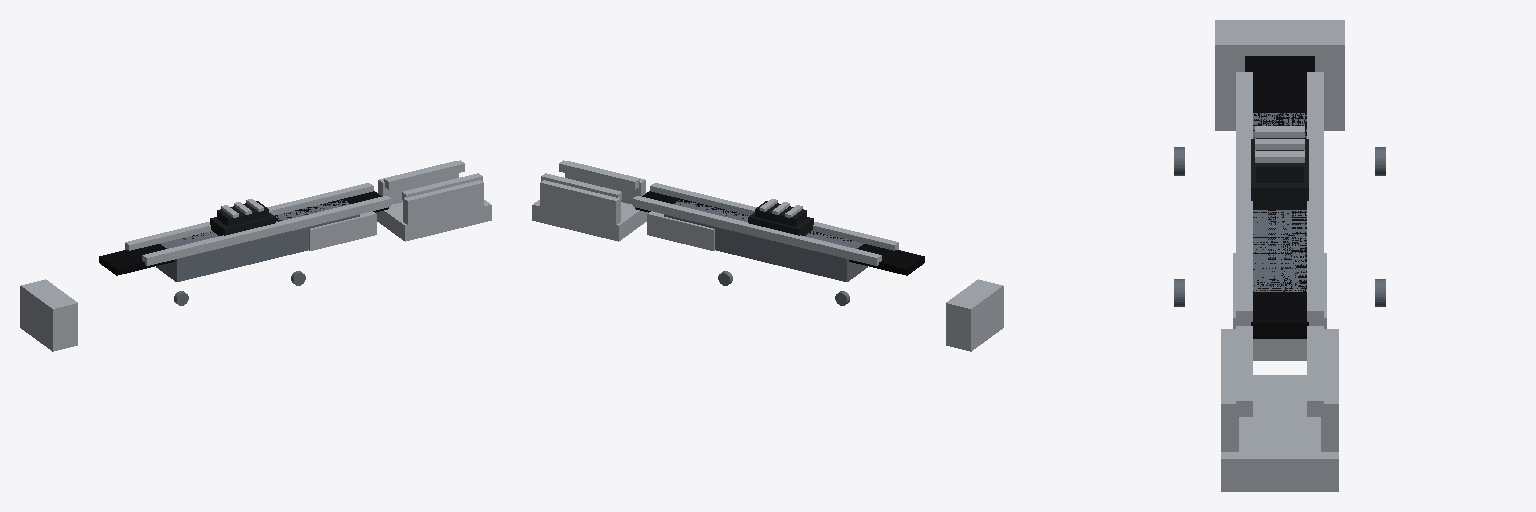
The robot description file, URDF, robot "retractable_utility_knife":
<robot name="retractable_utility_knife">
  <material name="body_yellow">
    <color rgba="0.9 0.75 0.16 1" />
    </material>
  <material name="grip_black">
    <color rgba="0.09 0.09 0.1 1" />
    </material>
  <material name="slider_black">
    <color rgba="0.14 0.15 0.16 1" />
    </material>
  <material name="steel">
    <color rgba="0.69 0.71 0.74 1" />
    </material>
  <material name="dark_steel">
    <color rgba="0.44 0.47 0.51 1" />
    </material>
  <material name="blade_steel">
    <color rgba="0.84 0.86 0.88 1" />
    </material>
  <link name="handle">
    <inertial>
      <mass value="0.24" />
      <inertia ixx="4.24e-05" ixy="0" ixz="0" iyy="0.0006052" iyz="0" izz="0.00062056" />
      </inertial>
    <visual>
      <geometry>
        <mesh filename="meshes/utility_knife_handle_shell.obj" />
        </geometry>
      <material name="body_yellow">
        <color rgba="0.9 0.75 0.16 1" />
        </material>
      </visual>
    <visual name="rear_cap">
      <origin xyz="-0.082 0 -0.0015" rpy="0 0 0" />
      <geometry>
        <box size="0.01 0.022 0.016" />
        </geometry>
      <material name="steel">
        <color rgba="0.69 0.71 0.74 1" />
        </material>
      </visual>
    <visual name="track_insert">
      <origin xyz="0 0 0.0115" rpy="0 0 0" />
      <geometry>
        <box size="0.097 0.01 0.003" />
        </geometry>
      <material name="grip_black">
        <color rgba="0.09 0.09 0.1 1" />
        </material>
      </visual>
    <visual name="left_track_rail">
      <origin xyz="0 0.006 0.0136" rpy="0 0 0" />
      <geometry>
        <box size="0.096 0.003 0.003" />
        </geometry>
      <material name="steel">
        <color rgba="0.69 0.71 0.74 1" />
        </material>
      </visual>
    <visual name="right_track_rail">
      <origin xyz="0 -0.006 0.0136" rpy="0 0 0" />
      <geometry>
        <box size="0.096 0.003 0.003" />
        </geometry>
      <material name="steel">
        <color rgba="0.69 0.71 0.74 1" />
        </material>
      </visual>
    <visual name="nose_shoe">
      <origin xyz="0.069 0 0.002" rpy="0 0 0" />
      <geometry>
        <box size="0.034 0.02 0.006" />
        </geometry>
      <material name="steel">
        <color rgba="0.69 0.71 0.74 1" />
        </material>
      </visual>
    <visual name="nose_left_cheek">
      <origin xyz="0.068 0.0085 0.008" rpy="0 0 0" />
      <geometry>
        <box size="0.03 0.003 0.012" />
        </geometry>
      <material name="steel">
        <color rgba="0.69 0.71 0.74 1" />
        </material>
      </visual>
    <visual name="nose_right_cheek">
      <origin xyz="0.068 -0.0085 0.008" rpy="0 0 0" />
      <geometry>
        <box size="0.03 0.003 0.012" />
        </geometry>
      <material name="steel">
        <color rgba="0.69 0.71 0.74 1" />
        </material>
      </visual>
    <visual name="nose_left_top_guide">
      <origin xyz="0.069 0.006 0.0136" rpy="0 0 0" />
      <geometry>
        <box size="0.03 0.003 0.003" />
        </geometry>
      <material name="steel">
        <color rgba="0.69 0.71 0.74 1" />
        </material>
      </visual>
    <visual name="nose_right_top_guide">
      <origin xyz="0.069 -0.006 0.0136" rpy="0 0 0" />
      <geometry>
        <box size="0.03 0.003 0.003" />
        </geometry>
      <material name="steel">
        <color rgba="0.69 0.71 0.74 1" />
        </material>
      </visual>
    <visual name="left_grip_panel">
      <origin xyz="0 0.0167 0" rpy="0 0 0" />
      <geometry>
        <mesh filename="meshes/utility_knife_side_grip.obj" />
        </geometry>
      <material name="grip_black">
        <color rgba="0.09 0.09 0.1 1" />
        </material>
      </visual>
    <visual name="right_grip_panel">
      <origin xyz="0 -0.0167 0" rpy="0 0 0" />
      <geometry>
        <mesh filename="meshes/utility_knife_side_grip.obj" />
        </geometry>
      <material name="grip_black">
        <color rgba="0.09 0.09 0.1 1" />
        </material>
      </visual>
    <visual name="rear_spine_pad">
      <origin xyz="-0.043 0 0.0117" rpy="0 0 0" />
      <geometry>
        <box size="0.032 0.012 0.0025" />
        </geometry>
      <material name="grip_black">
        <color rgba="0.09 0.09 0.1 1" />
        </material>
      </visual>
    <visual name="left_fastener_-0.040">
      <origin xyz="-0.04 0.0171 0.002" rpy="1.5708 0 0" />
      <geometry>
        <cylinder radius="0.0024" length="0.0018" />
        </geometry>
      <material name="dark_steel">
        <color rgba="0.44 0.47 0.51 1" />
        </material>
      </visual>
    <visual name="right_fastener_-0.040">
      <origin xyz="-0.04 -0.0171 0.002" rpy="1.5708 0 0" />
      <geometry>
        <cylinder radius="0.0024" length="0.0018" />
        </geometry>
      <material name="dark_steel">
        <color rgba="0.44 0.47 0.51 1" />
        </material>
      </visual>
    <visual name="left_fastener_0.006">
      <origin xyz="0.006 0.0171 -0.0012" rpy="1.5708 0 0" />
      <geometry>
        <cylinder radius="0.0024" length="0.0018" />
        </geometry>
      <material name="dark_steel">
        <color rgba="0.44 0.47 0.51 1" />
        </material>
      </visual>
    <visual name="right_fastener_0.006">
      <origin xyz="0.006 -0.0171 -0.0012" rpy="1.5708 0 0" />
      <geometry>
        <cylinder radius="0.0024" length="0.0018" />
        </geometry>
      <material name="dark_steel">
        <color rgba="0.44 0.47 0.51 1" />
        </material>
      </visual>
    <collision name="handle__visual_1__hull_001">
      <geometry>
        <mesh filename="meshes/collision/cache/95cb76e7781f9f93812b9bc6__hull_001.obj" />
        </geometry>
      </collision>
    <collision name="handle__rear_cap">
      <origin xyz="-0.082 0 -0.0015" rpy="0 0 0" />
      <geometry>
        <box size="0.01 0.022 0.016" />
        </geometry>
      </collision>
    <collision name="handle__track_insert">
      <origin xyz="0 0 0.0115" rpy="0 0 0" />
      <geometry>
        <box size="0.097 0.01 0.003" />
        </geometry>
      </collision>
    <collision name="handle__left_track_rail">
      <origin xyz="0 0.006 0.0136" rpy="0 0 0" />
      <geometry>
        <box size="0.096 0.003 0.003" />
        </geometry>
      </collision>
    <collision name="handle__right_track_rail">
      <origin xyz="0 -0.006 0.0136" rpy="0 0 0" />
      <geometry>
        <box size="0.096 0.003 0.003" />
        </geometry>
      </collision>
    <collision name="handle__nose_shoe">
      <origin xyz="0.069 0 0.002" rpy="0 0 0" />
      <geometry>
        <box size="0.034 0.02 0.006" />
        </geometry>
      </collision>
    <collision name="handle__nose_left_cheek">
      <origin xyz="0.068 0.0085 0.008" rpy="0 0 0" />
      <geometry>
        <box size="0.03 0.003 0.012" />
        </geometry>
      </collision>
    <collision name="handle__nose_right_cheek">
      <origin xyz="0.068 -0.0085 0.008" rpy="0 0 0" />
      <geometry>
        <box size="0.03 0.003 0.012" />
        </geometry>
      </collision>
    <collision name="handle__nose_left_top_guide">
      <origin xyz="0.069 0.006 0.0136" rpy="0 0 0" />
      <geometry>
        <box size="0.03 0.003 0.003" />
        </geometry>
      </collision>
    <collision name="handle__nose_right_top_guide">
      <origin xyz="0.069 -0.006 0.0136" rpy="0 0 0" />
      <geometry>
        <box size="0.03 0.003 0.003" />
        </geometry>
      </collision>
    <collision name="handle__left_grip_panel__hull_001">
      <origin xyz="0 0.0167 0" rpy="0 0 0" />
      <geometry>
        <mesh filename="meshes/collision/cache/3d863f0f2bb0191025693904__hull_001.obj" />
        </geometry>
      </collision>
    <collision name="handle__right_grip_panel__hull_001">
      <origin xyz="0 -0.0167 0" rpy="0 0 0" />
      <geometry>
        <mesh filename="meshes/collision/cache/3d863f0f2bb0191025693904__hull_001.obj" />
        </geometry>
      </collision>
    <collision name="handle__rear_spine_pad">
      <origin xyz="-0.043 0 0.0117" rpy="0 0 0" />
      <geometry>
        <box size="0.032 0.012 0.0025" />
        </geometry>
      </collision>
    <collision name="handle__left_fastener__0_040">
      <origin xyz="-0.04 0.0171 0.002" rpy="1.5708 0 0" />
      <geometry>
        <cylinder radius="0.0024" length="0.0018" />
        </geometry>
      </collision>
    <collision name="handle__right_fastener__0_040">
      <origin xyz="-0.04 -0.0171 0.002" rpy="1.5708 0 0" />
      <geometry>
        <cylinder radius="0.0024" length="0.0018" />
        </geometry>
      </collision>
    <collision name="handle__left_fastener_0_006">
      <origin xyz="0.006 0.0171 -0.0012" rpy="1.5708 0 0" />
      <geometry>
        <cylinder radius="0.0024" length="0.0018" />
        </geometry>
      </collision>
    <collision name="handle__right_fastener_0_006">
      <origin xyz="0.006 -0.0171 -0.0012" rpy="1.5708 0 0" />
      <geometry>
        <cylinder radius="0.0024" length="0.0018" />
        </geometry>
      </collision>
    </link>
  <link name="blade_carrier">
    <inertial>
      <origin xyz="0.01 0 0" rpy="0 0 0" />
      <mass value="0.05" />
      <inertia ixx="2.16667e-06" ixy="0" ixz="0" iyy="3.45667e-05" iyz="0" izz="3.51e-05" />
      </inertial>
    <visual name="carrier_sled">
      <geometry>
        <box size="0.072 0.014 0.01" />
        </geometry>
      <material name="dark_steel">
        <color rgba="0.44 0.47 0.51 1" />
        </material>
      </visual>
    <visual name="carrier_left_runner">
      <origin xyz="-0.002 0.0052 0.003" rpy="0 0 0" />
      <geometry>
        <box size="0.036 0.0032 0.004" />
        </geometry>
      <material name="steel">
        <color rgba="0.69 0.71 0.74 1" />
        </material>
      </visual>
    <visual name="carrier_right_runner">
      <origin xyz="-0.002 -0.0052 0.003" rpy="0 0 0" />
      <geometry>
        <box size="0.036 0.0032 0.004" />
        </geometry>
      <material name="steel">
        <color rgba="0.69 0.71 0.74 1" />
        </material>
      </visual>
    <visual name="blade_clamp">
      <origin xyz="0.029 0 -0.001" rpy="0 0 0" />
      <geometry>
        <box size="0.026 0.016 0.008" />
        </geometry>
      <material name="steel">
        <color rgba="0.69 0.71 0.74 1" />
        </material>
      </visual>
    <visual name="clamp_left_cheek">
      <origin xyz="0.021 0.0055 0.0005" rpy="0 0 0" />
      <geometry>
        <box size="0.018 0.0025 0.006" />
        </geometry>
      <material name="steel">
        <color rgba="0.69 0.71 0.74 1" />
        </material>
      </visual>
    <visual name="clamp_right_cheek">
      <origin xyz="0.021 -0.0055 0.0005" rpy="0 0 0" />
      <geometry>
        <box size="0.018 0.0025 0.006" />
        </geometry>
      <material name="steel">
        <color rgba="0.69 0.71 0.74 1" />
        </material>
      </visual>
    <visual name="thumb_slider_base">
      <origin xyz="-0.006 0 0.0075" rpy="0 0 0" />
      <geometry>
        <box size="0.02 0.01 0.004" />
        </geometry>
      <material name="slider_black">
        <color rgba="0.14 0.15 0.16 1" />
        </material>
      </visual>
    <visual name="thumb_slider_top">
      <origin xyz="-0.006 0 0.011" rpy="0 0 0" />
      <geometry>
        <box size="0.016 0.008 0.003" />
        </geometry>
      <material name="slider_black">
        <color rgba="0.14 0.15 0.16 1" />
        </material>
      </visual>
    <visual name="thumb_grip_rib_-0.011">
      <origin xyz="-0.011 0 0.013" rpy="0 0 0" />
      <geometry>
        <box size="0.0022 0.0084 0.0012" />
        </geometry>
      <material name="steel">
        <color rgba="0.69 0.71 0.74 1" />
        </material>
      </visual>
    <visual name="thumb_grip_rib_-0.006">
      <origin xyz="-0.006 0 0.013" rpy="0 0 0" />
      <geometry>
        <box size="0.0022 0.0084 0.0012" />
        </geometry>
      <material name="steel">
        <color rgba="0.69 0.71 0.74 1" />
        </material>
      </visual>
    <visual name="thumb_grip_rib_-0.001">
      <origin xyz="-0.001 0 0.013" rpy="0 0 0" />
      <geometry>
        <box size="0.0022 0.0084 0.0012" />
        </geometry>
      <material name="steel">
        <color rgba="0.69 0.71 0.74 1" />
        </material>
      </visual>
    <visual name="utility_blade">
      <geometry>
        <mesh filename="meshes/utility_knife_blade.obj" />
        </geometry>
      <material name="blade_steel">
        <color rgba="0.84 0.86 0.88 1" />
        </material>
      </visual>
    <collision name="blade_carrier__carrier_sled">
      <geometry>
        <box size="0.072 0.014 0.01" />
        </geometry>
      </collision>
    <collision name="blade_carrier__carrier_left_runner">
      <origin xyz="-0.002 0.0052 0.003" rpy="0 0 0" />
      <geometry>
        <box size="0.036 0.0032 0.004" />
        </geometry>
      </collision>
    <collision name="blade_carrier__carrier_right_runner">
      <origin xyz="-0.002 -0.0052 0.003" rpy="0 0 0" />
      <geometry>
        <box size="0.036 0.0032 0.004" />
        </geometry>
      </collision>
    <collision name="blade_carrier__blade_clamp">
      <origin xyz="0.029 0 -0.001" rpy="0 0 0" />
      <geometry>
        <box size="0.026 0.016 0.008" />
        </geometry>
      </collision>
    <collision name="blade_carrier__clamp_left_cheek">
      <origin xyz="0.021 0.0055 0.0005" rpy="0 0 0" />
      <geometry>
        <box size="0.018 0.0025 0.006" />
        </geometry>
      </collision>
    <collision name="blade_carrier__clamp_right_cheek">
      <origin xyz="0.021 -0.0055 0.0005" rpy="0 0 0" />
      <geometry>
        <box size="0.018 0.0025 0.006" />
        </geometry>
      </collision>
    <collision name="blade_carrier__thumb_slider_base">
      <origin xyz="-0.006 0 0.0075" rpy="0 0 0" />
      <geometry>
        <box size="0.02 0.01 0.004" />
        </geometry>
      </collision>
    <collision name="blade_carrier__thumb_slider_top">
      <origin xyz="-0.006 0 0.011" rpy="0 0 0" />
      <geometry>
        <box size="0.016 0.008 0.003" />
        </geometry>
      </collision>
    <collision name="blade_carrier__thumb_grip_rib__0_011">
      <origin xyz="-0.011 0 0.013" rpy="0 0 0" />
      <geometry>
        <box size="0.0022 0.0084 0.0012" />
        </geometry>
      </collision>
    <collision name="blade_carrier__thumb_grip_rib__0_006">
      <origin xyz="-0.006 0 0.013" rpy="0 0 0" />
      <geometry>
        <box size="0.0022 0.0084 0.0012" />
        </geometry>
      </collision>
    <collision name="blade_carrier__thumb_grip_rib__0_001">
      <origin xyz="-0.001 0 0.013" rpy="0 0 0" />
      <geometry>
        <box size="0.0022 0.0084 0.0012" />
        </geometry>
      </collision>
    <collision name="blade_carrier__utility_blade__hull_001">
      <geometry>
        <mesh filename="meshes/collision/cache/440defea704726f467bc7299__hull_001.obj" />
        </geometry>
      </collision>
    </link>
  <joint name="blade_slide" type="prismatic">
    <origin xyz="0 0 0.008" rpy="0 0 0" />
    <parent link="handle" />
    <child link="blade_carrier" />
    <axis xyz="1 0 0" />
    <limit effort="35" velocity="0.25" lower="0" upper="0.055" />
    </joint>
  </robot>

--- What the picture shows (computed from the rendered views, not written in the file) ---
Views: 3 orthographic renders of the robot side by side, from view 1: azimuth 30°, elevation 25°; view 2: azimuth 150°, elevation 25°; view 3: azimuth 270°, elevation 25°.
Robot: retractable_utility_knife — 2 links, 1 joints (1 prismatic); root link handle; default pose: all joints at 0.
Links seen in each view (by area): view 1: handle, blade_carrier; view 2: handle, blade_carrier; view 3: handle, blade_carrier.
Boxes of the visible links, x1=… form: handle: x1=20, y1=160, x2=491, y2=351; blade_carrier: x1=156, y1=199, x2=376, y2=281; handle: x1=532, y1=160, x2=1003, y2=351; blade_carrier: x1=647, y1=199, x2=867, y2=281; handle: x1=1174, y1=20, x2=1385, y2=491; blade_carrier: x1=1233, y1=113, x2=1326, y2=360.
Size in the robot's own frame: 0.173 by 0.036 by 0.0311 metres.
Meshes: 3 distinct files referenced, 0 mesh visuals loaded (none loaded); not drawn: 4 (reference not matched to a file when rendering).
